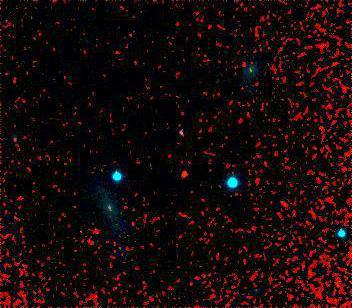star: (168, 160, 198, 190)
